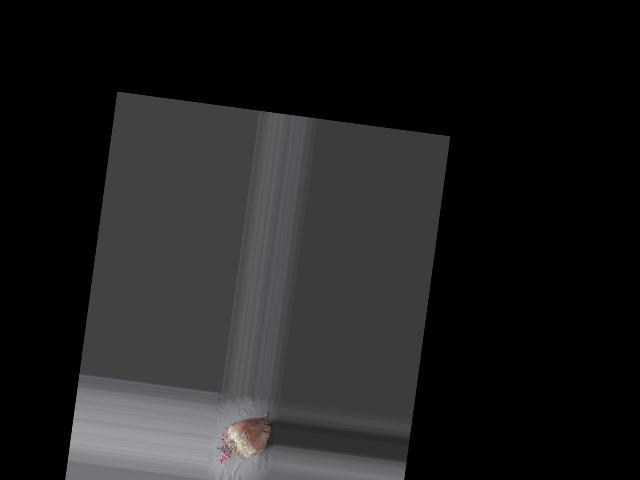beet: (214, 404, 273, 470)
